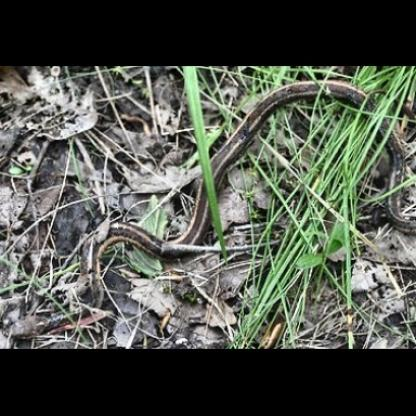Snake: (79, 80, 416, 296), (8, 299, 99, 342)
